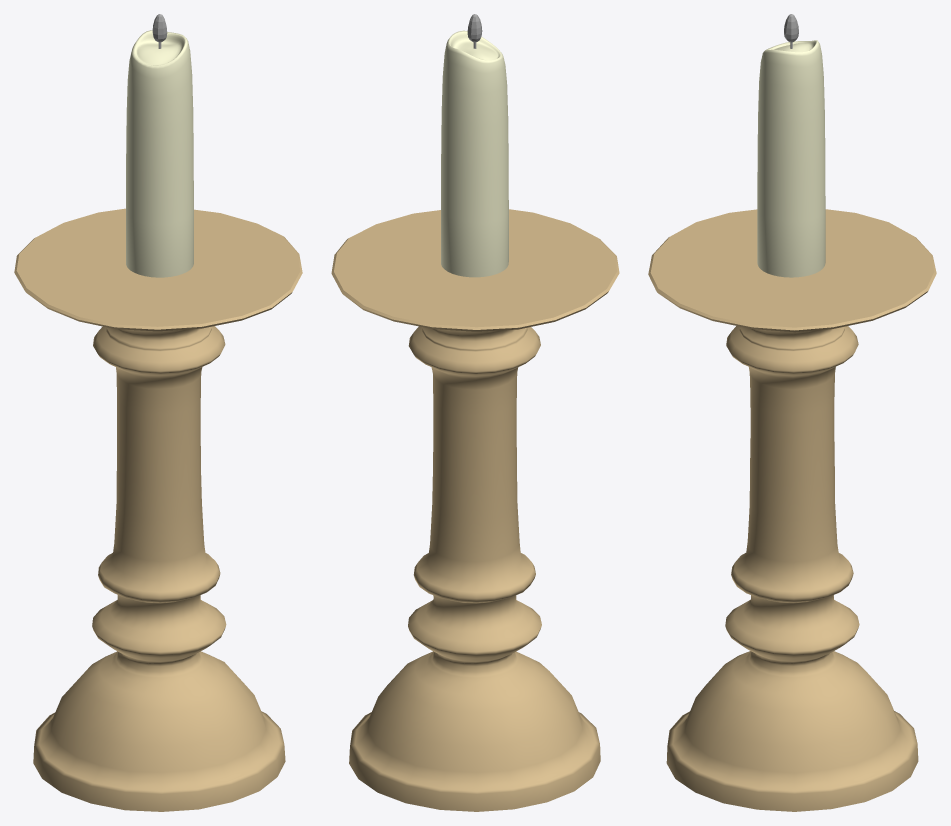
File: Candle.fbx
3 views of the same model, side by side, from view 1: azimuth 30°, elevation 25°; view 2: azimuth 150°, elevation 25°; view 3: azimuth 270°, elevation 25° (orthographic).
Parts seen in each view (by area): view 1: CandleStickHolder, Candle; view 2: CandleStickHolder, Candle; view 3: CandleStickHolder, Candle.
Part boxes in pixels (x1,y1,x2,y2): CandleStickHolder: (14,208,302,811); Candle: (126,30,193,277); CandleStickHolder: (331,209,619,811); Candle: (441,30,508,277); CandleStickHolder: (648,209,936,811); Candle: (757,40,825,277).
Bounding box in the file's own units: 0.5051 × 1.44 × 0.505.
